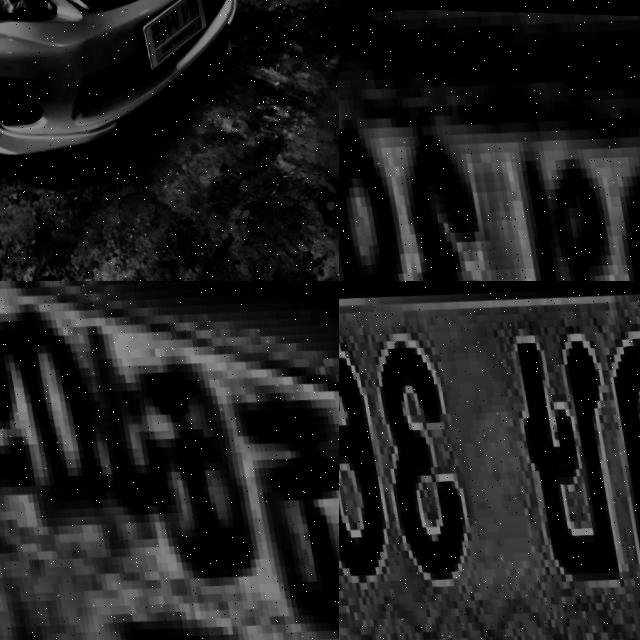license-plate: (0, 281, 339, 640), (339, 281, 640, 640), (339, 0, 640, 281), (124, 0, 208, 76)
